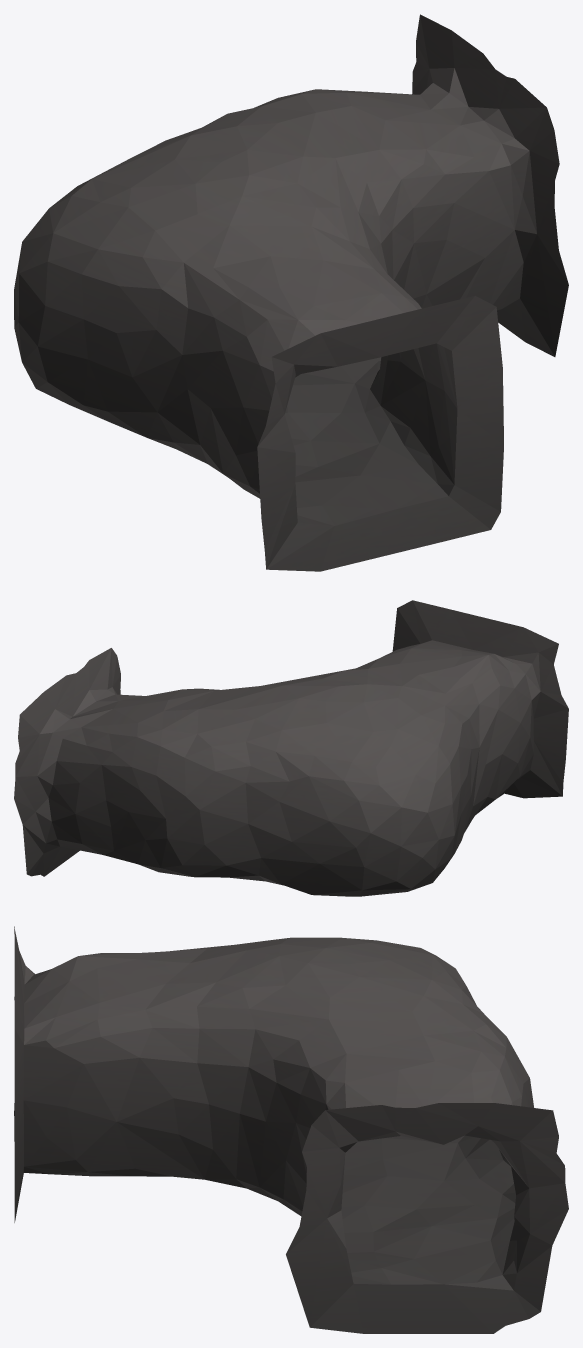
Rendered from ZLP_Cave_B_7.FBX.
The picture shows the model from 3 angles, top to bottom: view 1: azimuth 30°, elevation 25°; view 2: azimuth 150°, elevation 25°; view 3: azimuth 270°, elevation 25°; orthographic projection. The views are drawn at different scales.
Visible parts, largest first — view 1: ZLP_Cave_B_7; view 2: ZLP_Cave_B_7; view 3: ZLP_Cave_B_7.
Boxes of the visible parts, left/top/right/bottom form: ZLP_Cave_B_7: left=14, top=14, right=568, bottom=571; ZLP_Cave_B_7: left=14, top=600, right=568, bottom=896; ZLP_Cave_B_7: left=14, top=926, right=568, bottom=1333.
Size of the model in its own units: 1204 by 616 by 1310.
